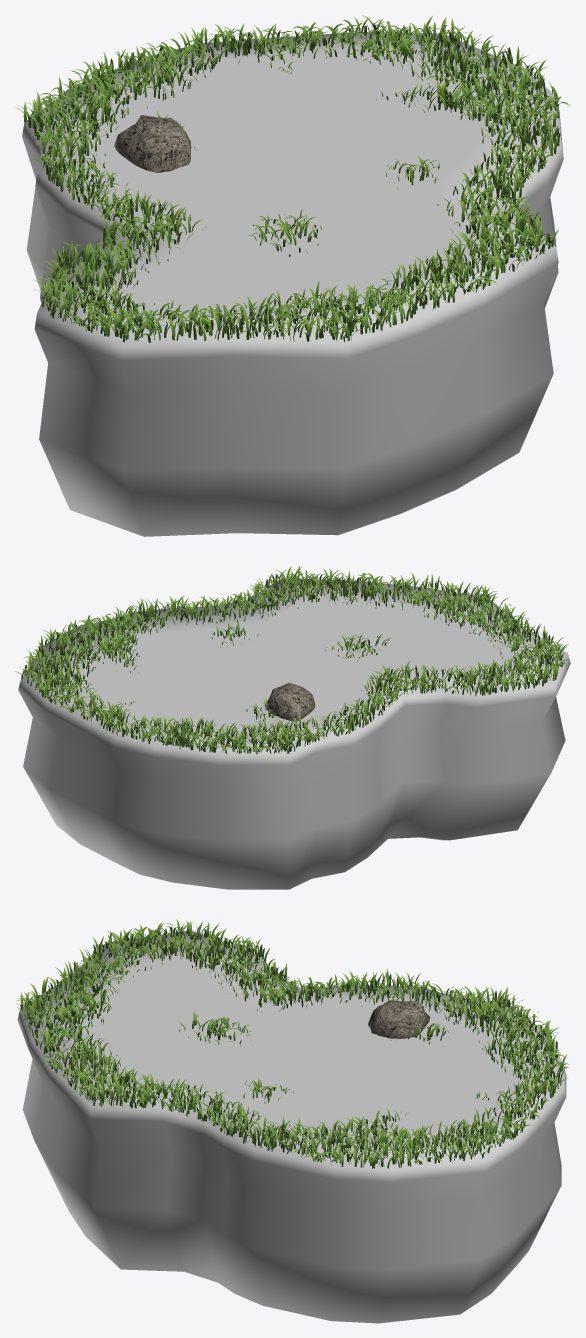
The model's file is SoilGrass.FBX.
The picture shows the model from 3 angles, top to bottom: view 1: azimuth 30°, elevation 25°; view 2: azimuth 150°, elevation 25°; view 3: azimuth 270°, elevation 25°; orthographic projection. The views are drawn at different scales.
Visible parts, largest first — view 1: Soil, Grass, Rock; view 2: Soil, Grass, Rock; view 3: Soil, Grass, Rock.
Part boxes in pixels (bbox=[...]): Soil: bbox=[22, 32, 563, 536]; Grass: bbox=[15, 15, 570, 342]; Rock: bbox=[114, 115, 191, 172]; Soil: bbox=[18, 578, 570, 889]; Grass: bbox=[15, 565, 570, 754]; Rock: bbox=[266, 683, 315, 721]; Soil: bbox=[17, 931, 566, 1323]; Grass: bbox=[16, 919, 570, 1168]; Rock: bbox=[368, 1000, 429, 1038].
Bounding box in the file's own units: 314 × 118 × 303.
